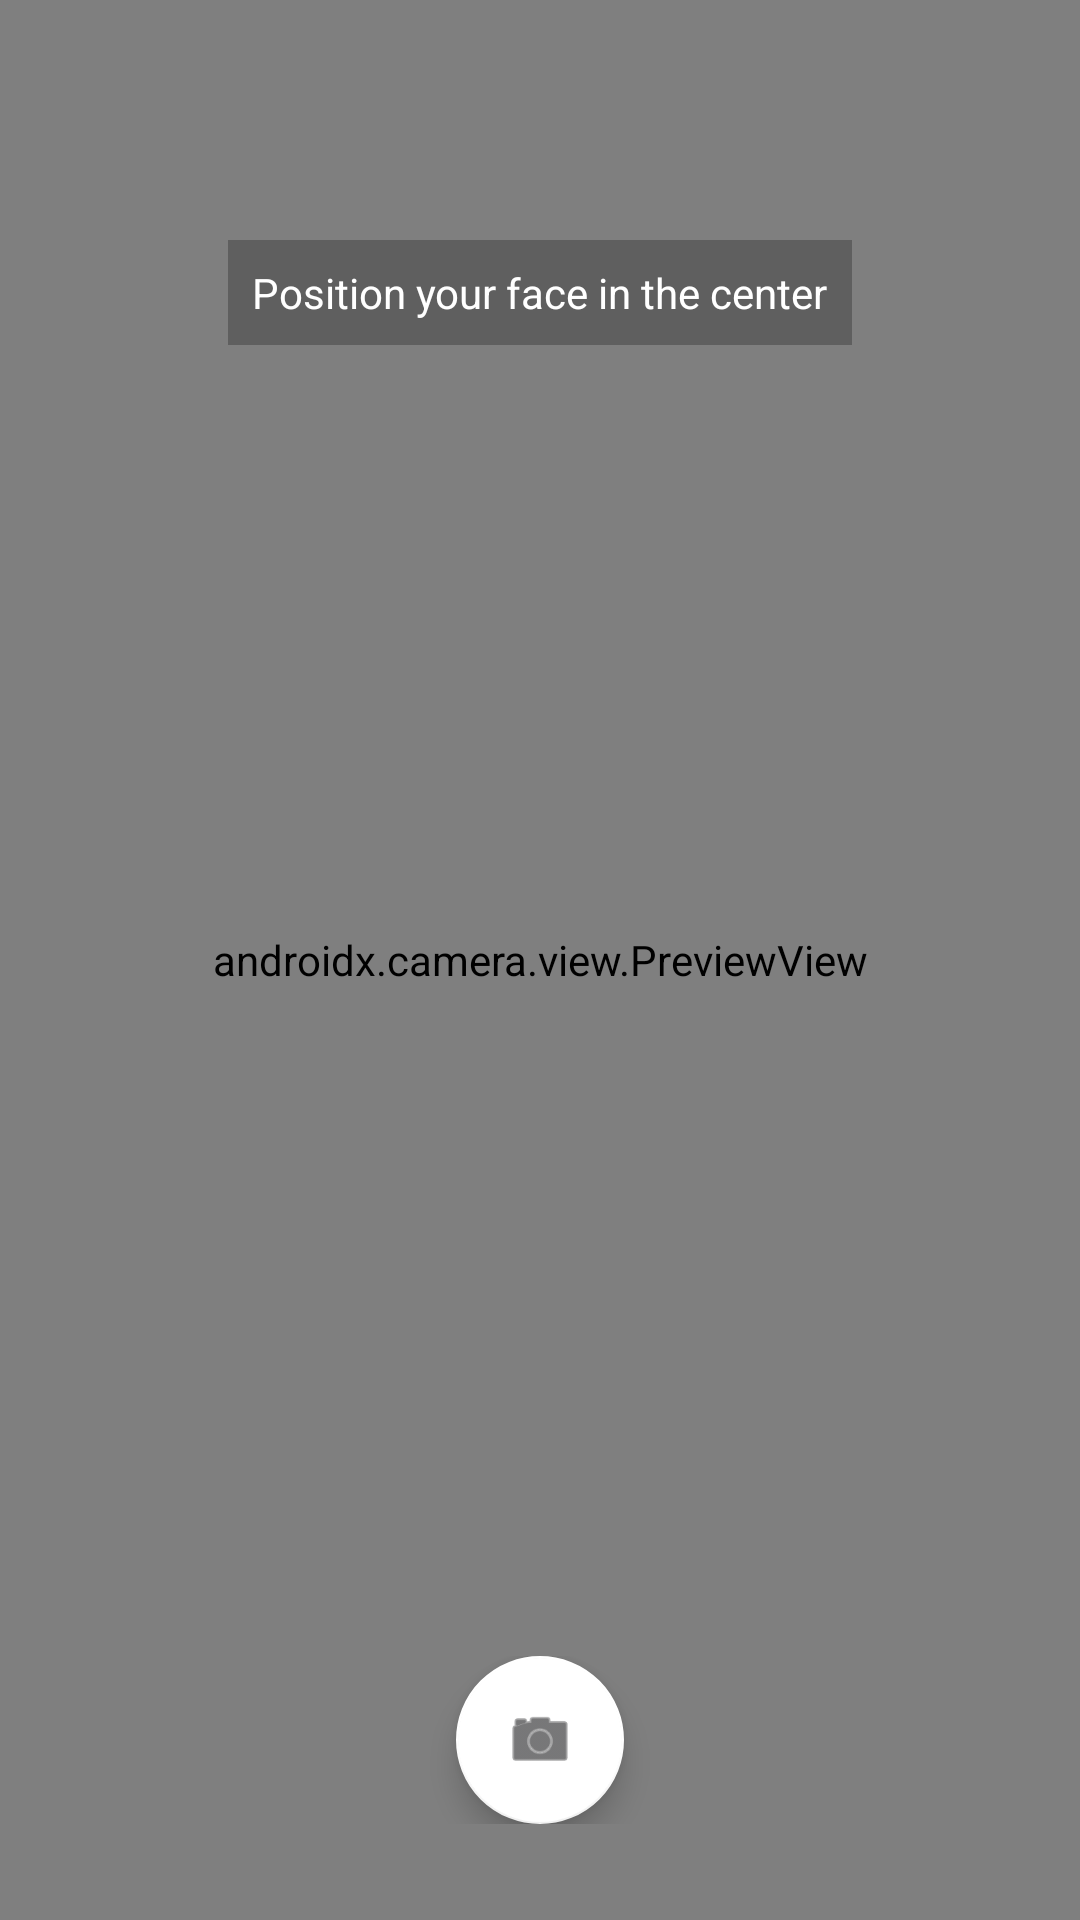

Screen size 1080 × 1920. Icon name, then its center in pixels as (x,y):
Capture: (540,1740)
